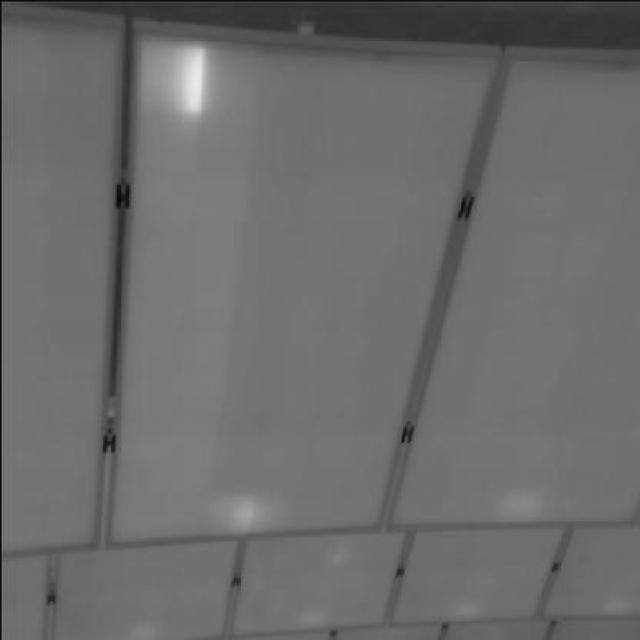hotspot: (129, 36, 209, 121)
